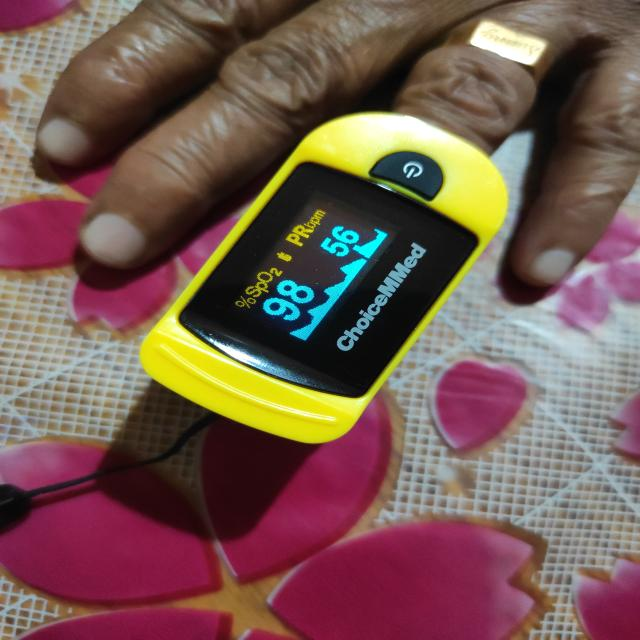display: (218, 192, 448, 372)
frame: (252, 270, 320, 330), (314, 215, 368, 262)
gauge: (134, 107, 511, 443)
